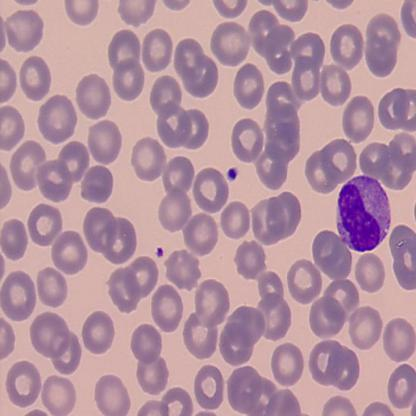Metamyelocyte: (334, 173, 392, 257)
